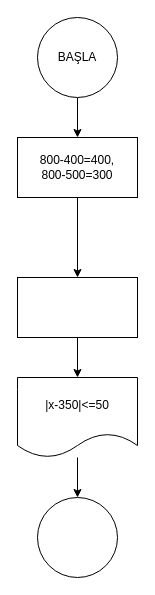
The diagram is 155 pixels wide and 595 high, and some of its shapes have lost their labels. Here are the shapes that lost their labels. From the top down, the centre of each, then its label:
the point at 77,307: 300<x<400 300-350<x-350<50
the point at 77,537: DUR
